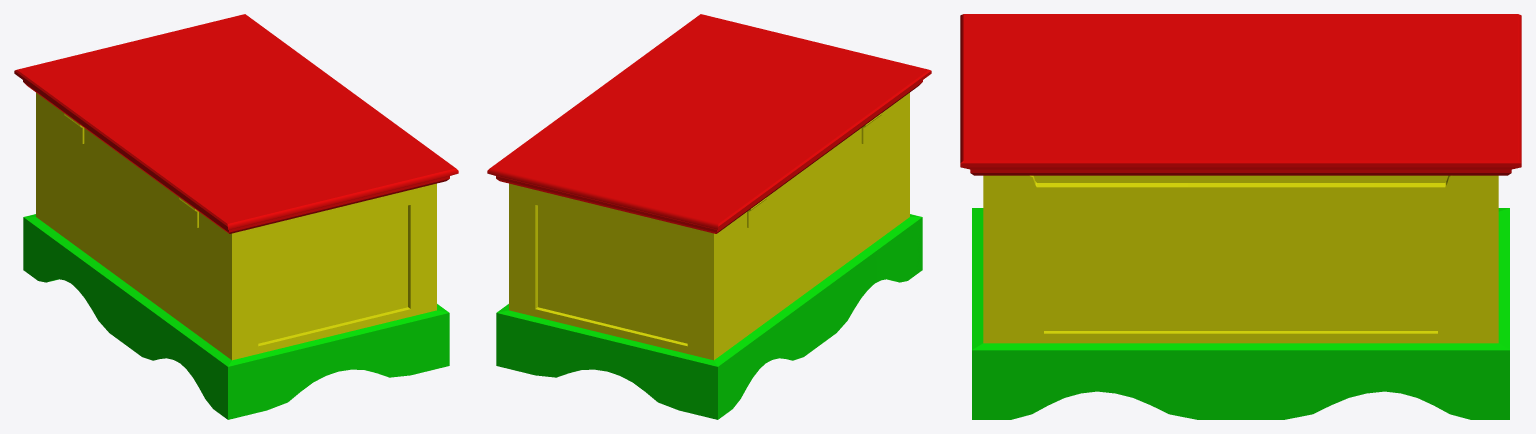
Rendered from ToyChest_low.fbx.
3 views of the same model, side by side, from view 1: azimuth 30°, elevation 25°; view 2: azimuth 150°, elevation 25°; view 3: azimuth 270°, elevation 25° (orthographic). The views are drawn at different scales.
Visible parts, largest first — view 1: LidChest_low, BaseChest_low, LegChest_low, BasePlate_low; view 2: LidChest_low, BaseChest_low, LegChest_low, BasePlate_low; view 3: LidChest_low, BaseChest_low, LegChest_low.
Boxes of the visible parts, x1=… form: LidChest_low: x1=14, y1=14, x2=458, y2=233; BaseChest_low: x1=36, y1=93, x2=436, y2=360; LegChest_low: x1=23, y1=214, x2=449, y2=419; BasePlate_low: x1=67, y1=117, x2=198, y2=227; LidChest_low: x1=487, y1=14, x2=931, y2=233; BaseChest_low: x1=509, y1=93, x2=909, y2=360; LegChest_low: x1=496, y1=214, x2=922, y2=419; BasePlate_low: x1=747, y1=117, x2=878, y2=227; LidChest_low: x1=960, y1=14, x2=1521, y2=175; BaseChest_low: x1=983, y1=175, x2=1498, y2=343; LegChest_low: x1=972, y1=208, x2=1509, y2=419.
Size of the model in its own units: 6.22 by 5.12 by 9.96.
